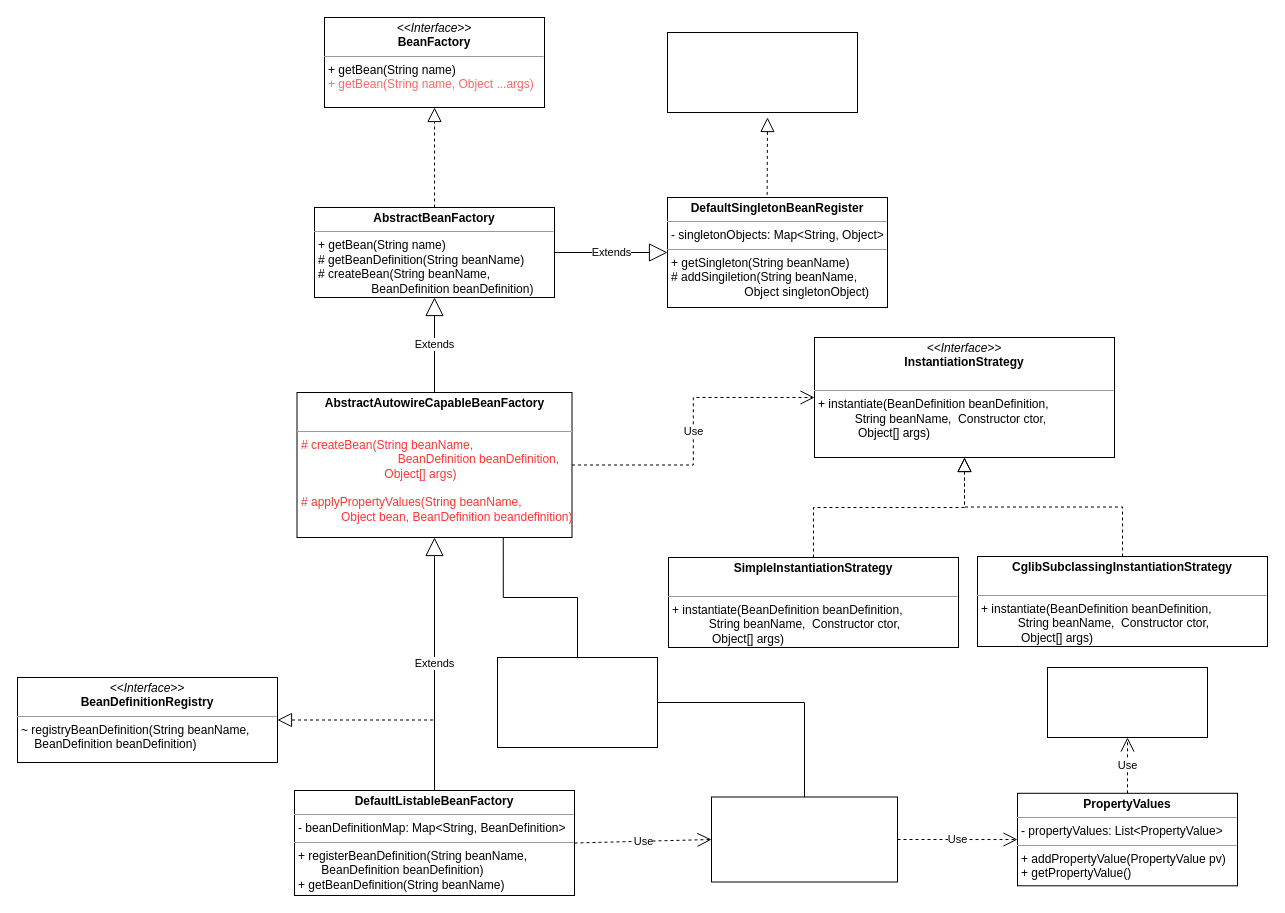
This 1285x913 diagram has some shape labels left out. The centre of each missing label's shape, as x and y in pixels:
"<<Interface>> SingletonBeanRegister + getSingleton(String beanName)" belongs at (762,72).
"BeanDefinition - beanClass: Class - propertyValues: PropertyValues" belongs at (804,839).
"BeanReference + beanName: String + getBeanName()" belongs at (577,702).
"PropertyValue - name: String - value: Object" belongs at (1127,702).
